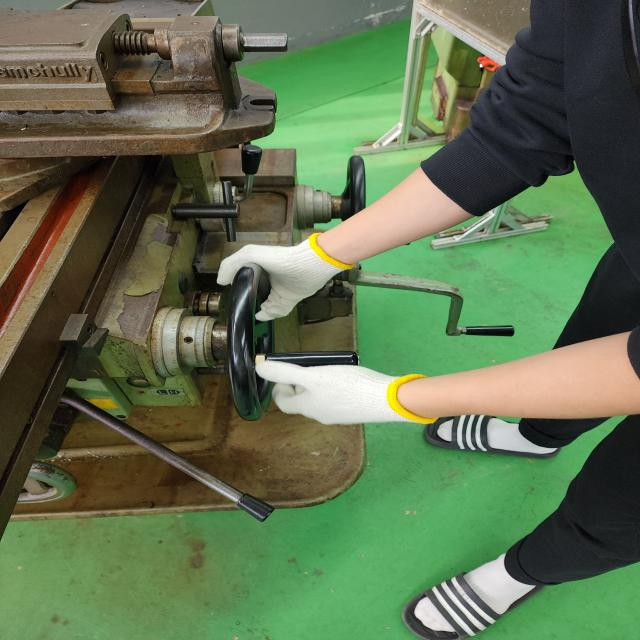Boots: (218, 232, 354, 322), (255, 360, 438, 426)
